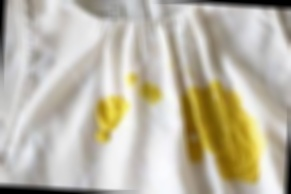mustard: (173, 79, 250, 179), (214, 115, 261, 186), (93, 93, 126, 147), (138, 77, 161, 102), (127, 71, 141, 88)
